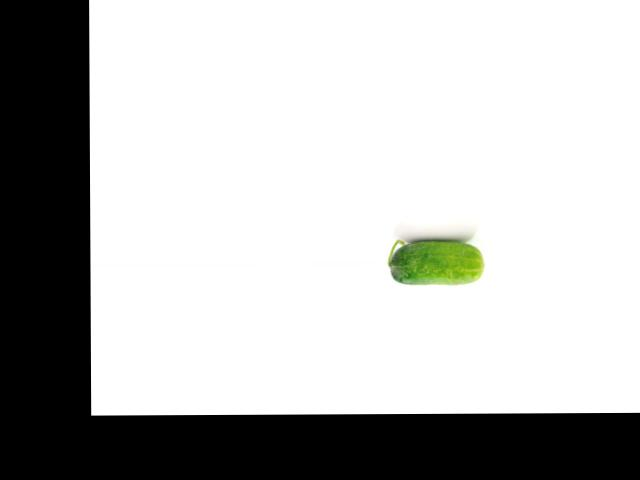cucumber: (388, 238, 485, 284)
